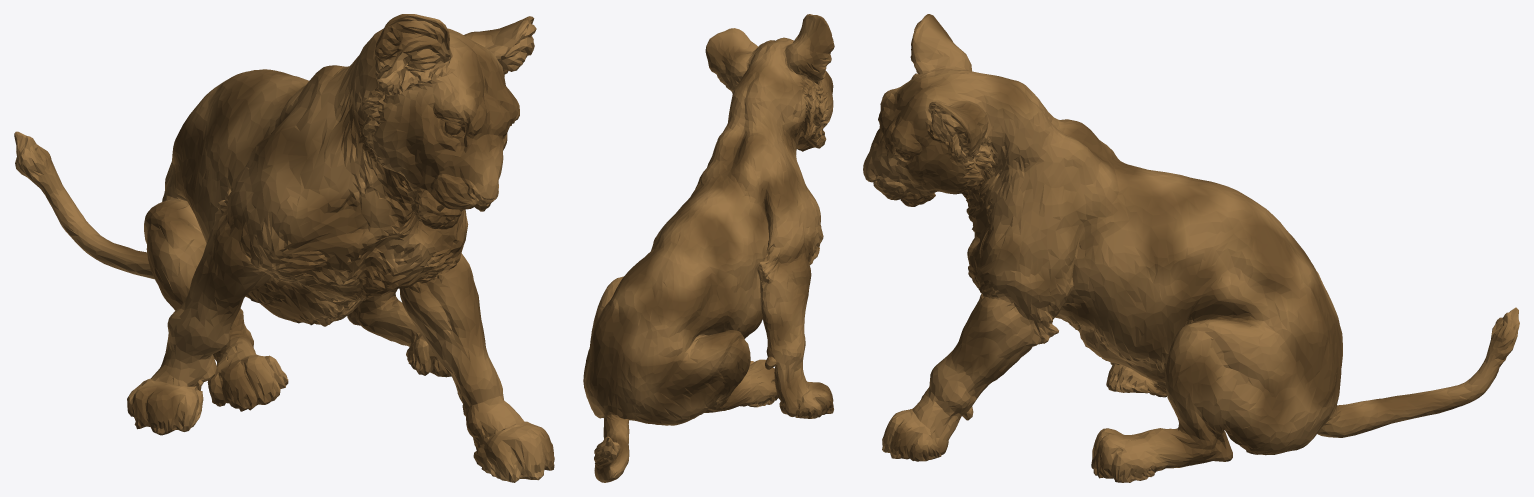
Rendered from animal_lioncub_v1.glb.
3 views of the same model, side by side, from view 1: azimuth 30°, elevation 25°; view 2: azimuth 150°, elevation 25°; view 3: azimuth 270°, elevation 25° (orthographic). The views are drawn at different scales.
Parts seen in each view (by area): view 1: lion-cub-playing-1-24; view 2: lion-cub-playing-1-24; view 3: lion-cub-playing-1-24.
Part boxes in pixels (left/top/right/bottom): lion-cub-playing-1-24: left=14, top=14, right=554, bottom=482; lion-cub-playing-1-24: left=583, top=14, right=834, bottom=482; lion-cub-playing-1-24: left=863, top=14, right=1519, bottom=482.
Bounding box in the file's own units: 16.78 × 22.87 × 34.64.
